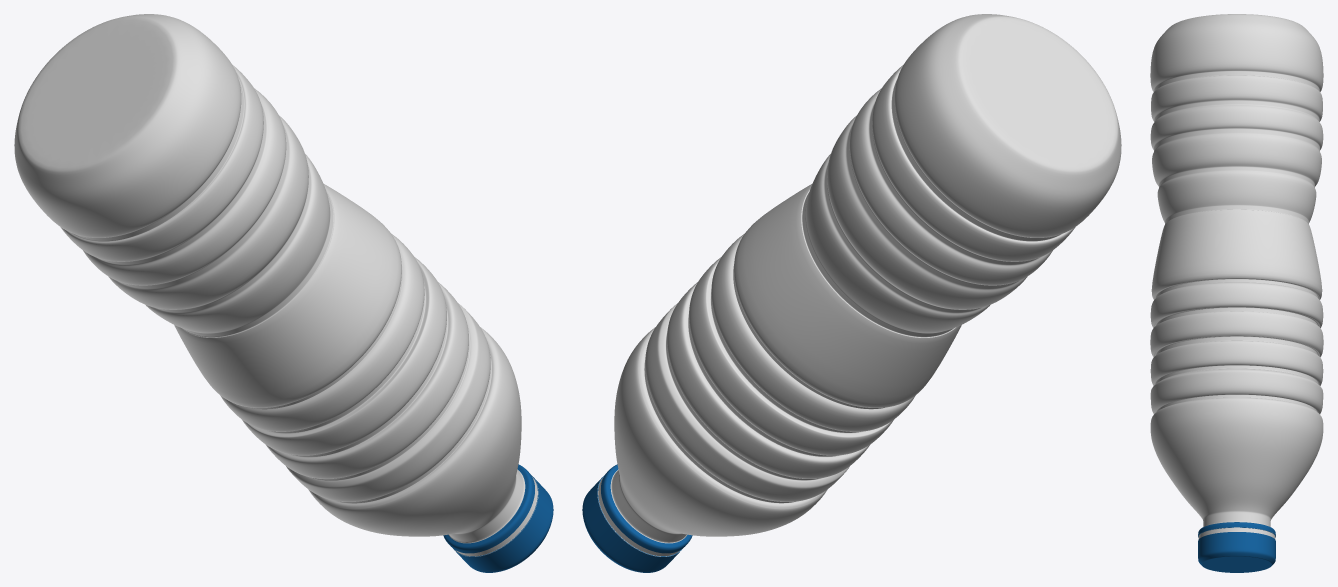
Rendered from botol_Scene.fbx.
3 renders of one model, left to right at view 1: azimuth 30°, elevation 25°; view 2: azimuth 150°, elevation 25°; view 3: azimuth 270°, elevation 25°, orthographic. The views are drawn at different scales.
Visible parts, largest first — view 1: Plastic bottle.004; view 2: Plastic bottle.004; view 3: Plastic bottle.004.
Part boxes in pixels (x1,y1,x2,y2): Plastic bottle.004: [14, 14, 553, 572]; Plastic bottle.004: [582, 14, 1121, 572]; Plastic bottle.004: [1150, 14, 1323, 572].
Bounding box in the file's own units: 17.8 × 20.6 × 7.23.
